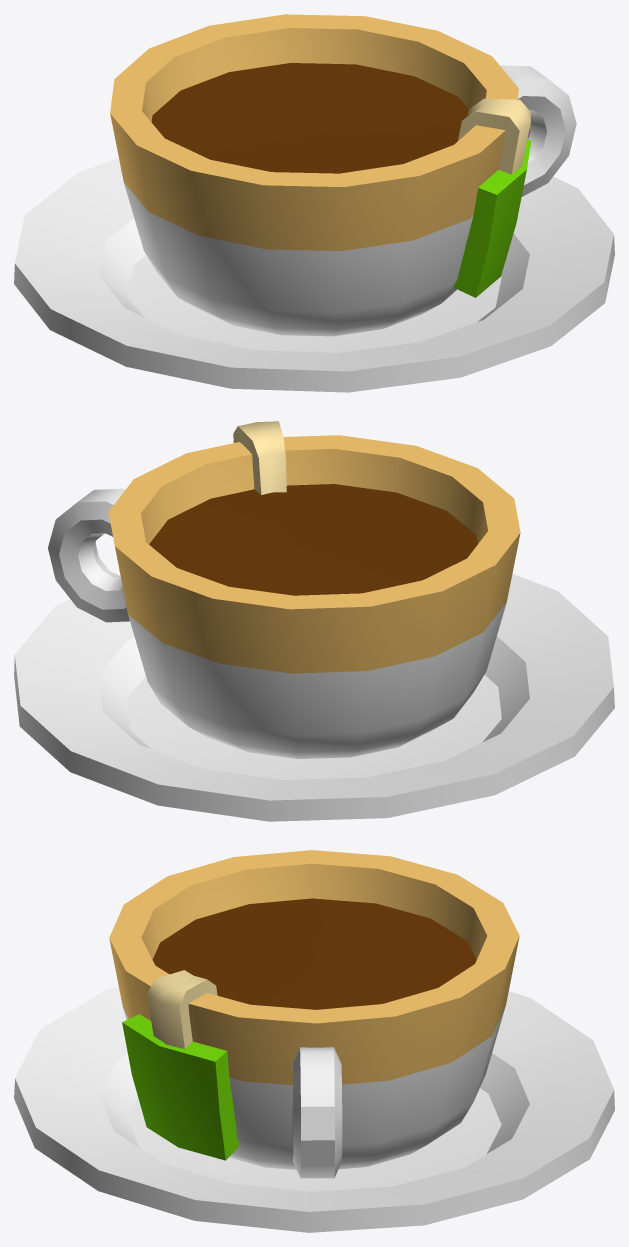
File: Tea_02_Black.fbx
3 views of the same model, one above another, from view 1: azimuth 30°, elevation 25°; view 2: azimuth 150°, elevation 25°; view 3: azimuth 270°, elevation 25° (orthographic).
Parts seen in each view (by area): view 1: Tea_02_Black; view 2: Tea_02_Black; view 3: Tea_02_Black.
Part boxes in pixels (left/top/right/bottom): Tea_02_Black: left=14, top=14, right=614, bottom=392; Tea_02_Black: left=14, top=421, right=614, bottom=821; Tea_02_Black: left=14, top=850, right=614, bottom=1232.
Size of the model in its own units: 53.05 by 21.57 by 53.05.
